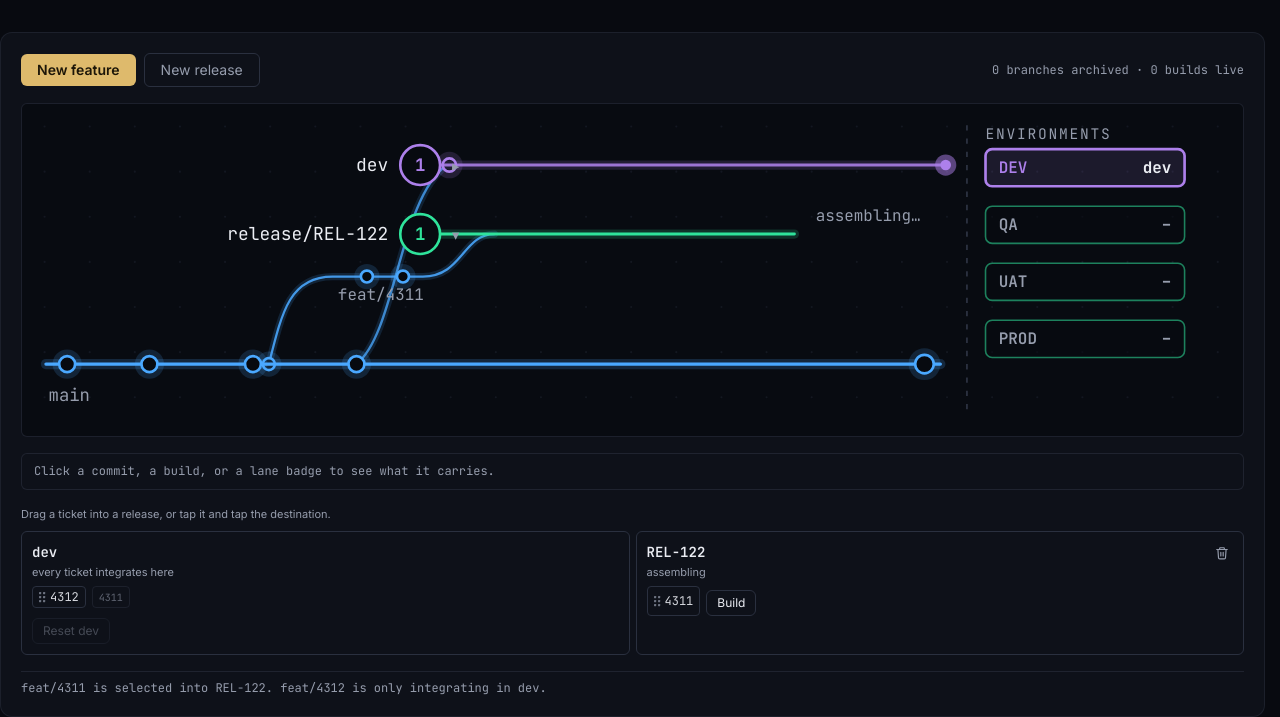
Scenario: ReleaseTrain › builds and promotes a release to production
Click the button "Build": (731, 603) [706,590,756,616]
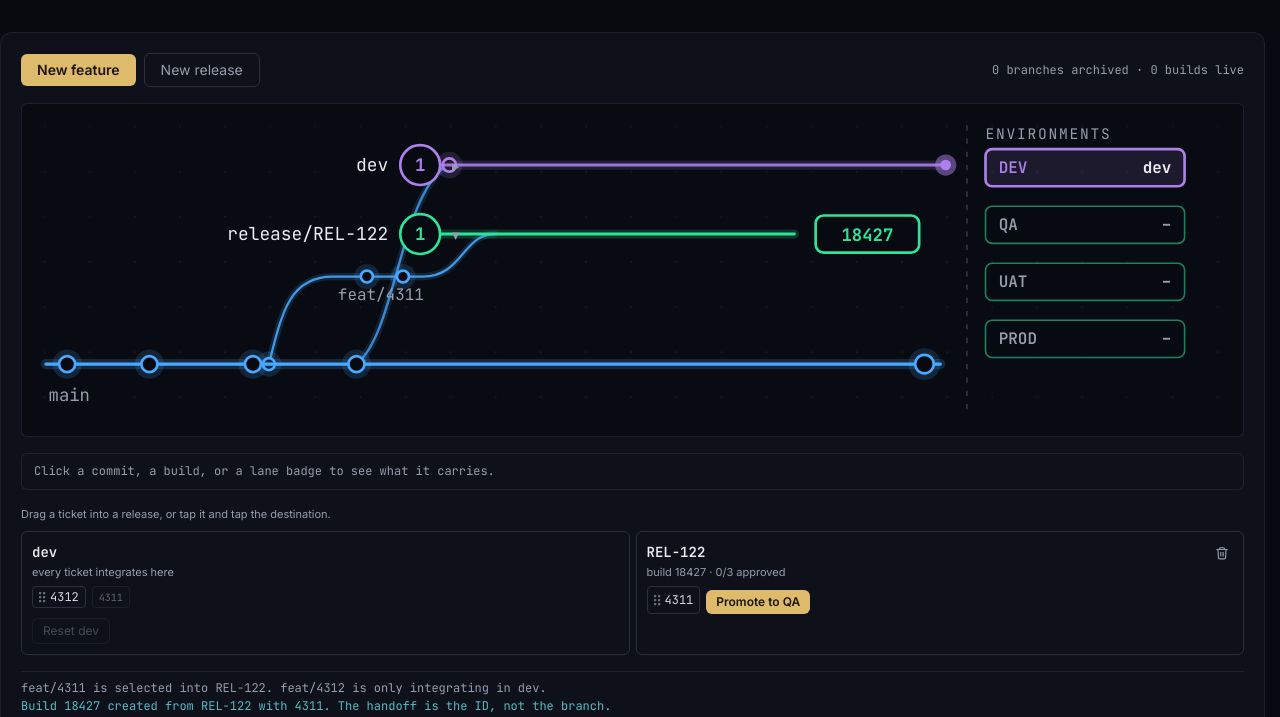
Click the button "Promote to QA": (758, 602) [706,590,810,614]
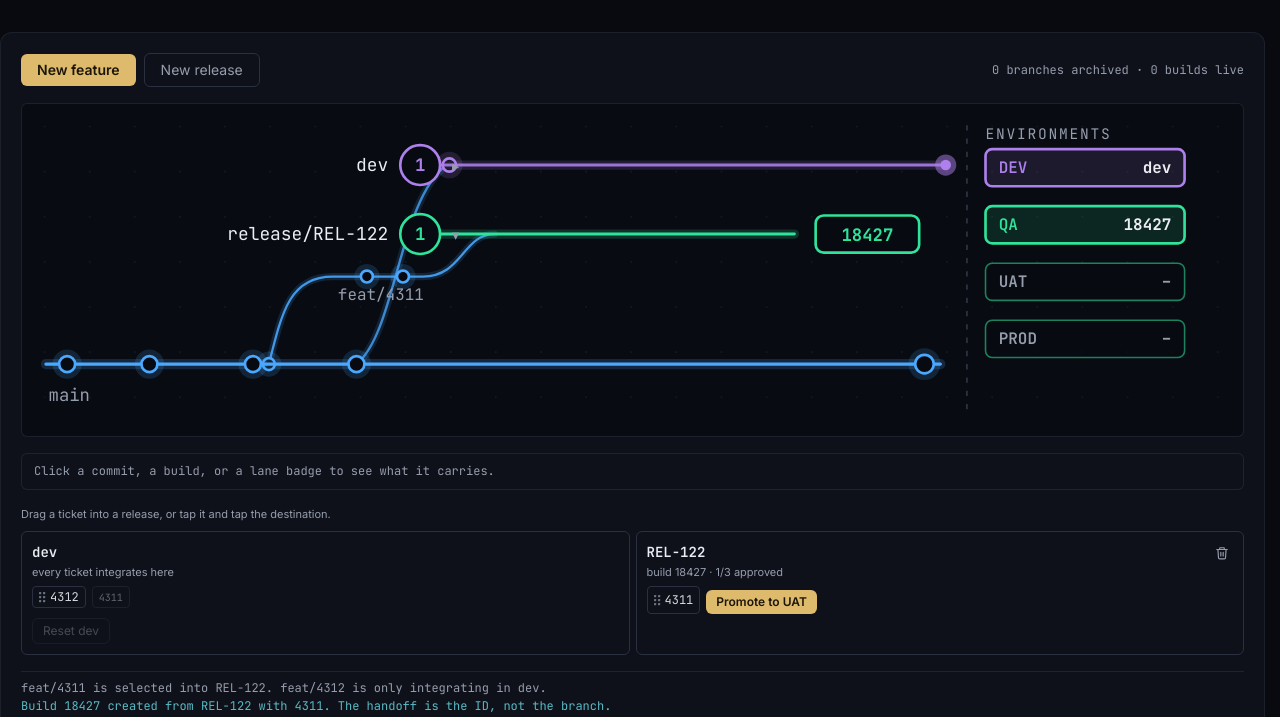
Click the button "Promote to UAT": (762, 602) [706,590,817,614]
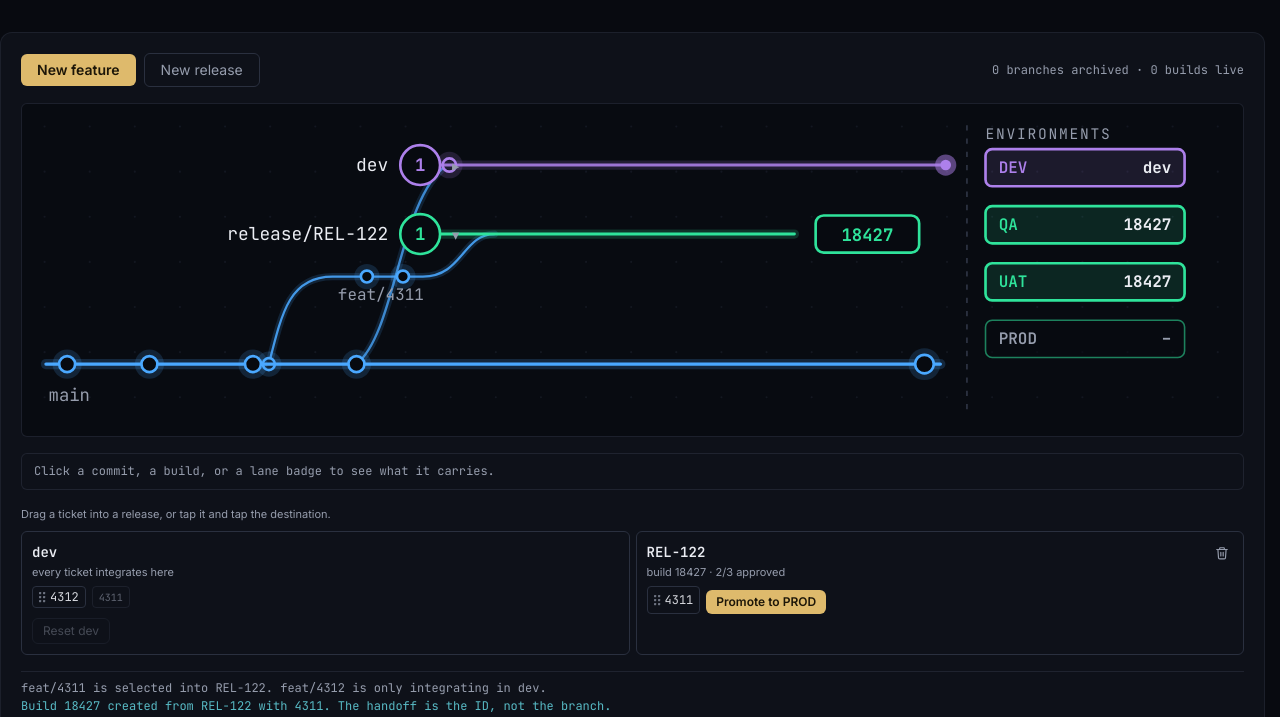
Click the button "Promote to PROD": (766, 602) [706,590,826,614]
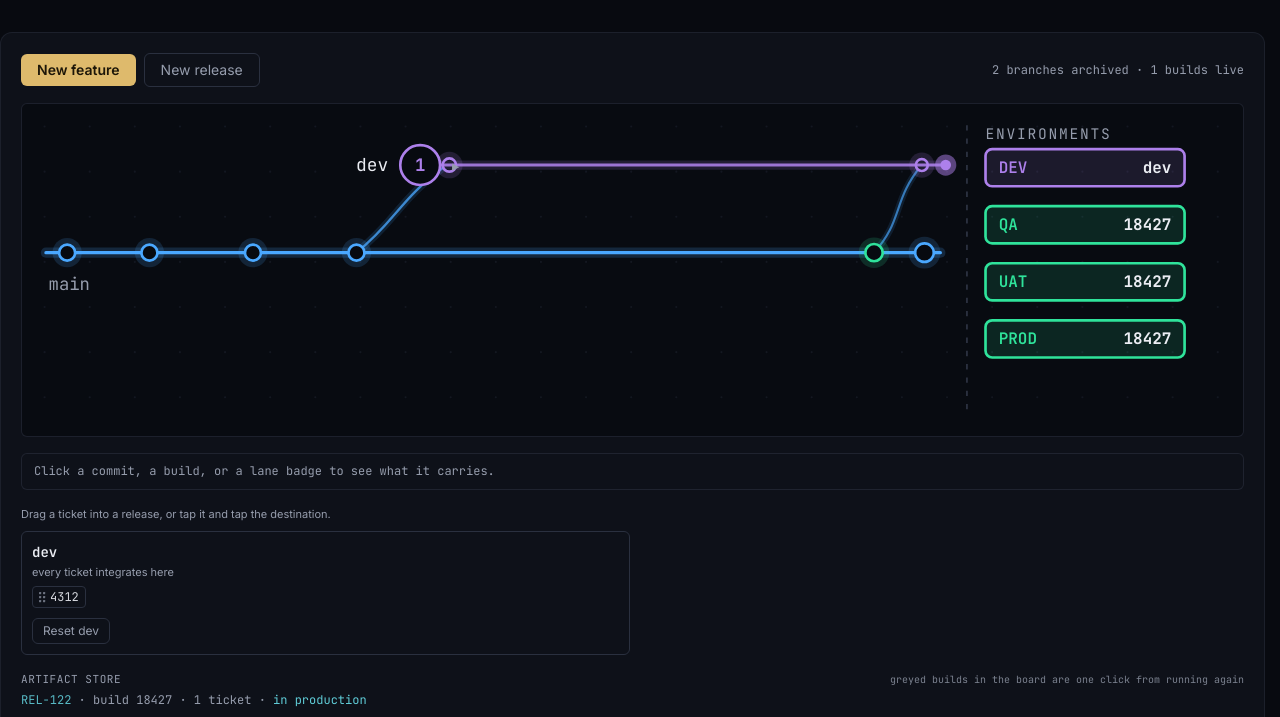
Check: the button "PROD runs build 18427." is shown, box [999,328,1171,349]
Check: the text "2 branches archived · 1 builds live" is shown, box [992,62,1244,78]
Check: the text "in production" is shown, box [273,692,367,708]
